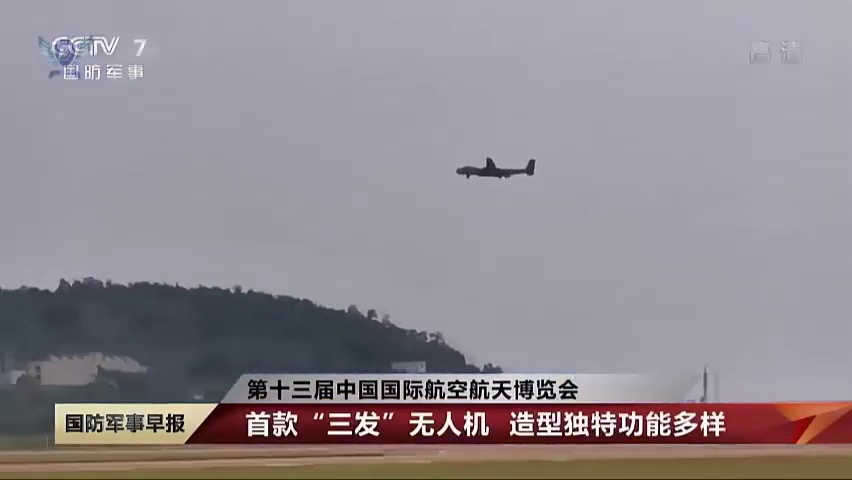military drone: (455, 157, 535, 178)
